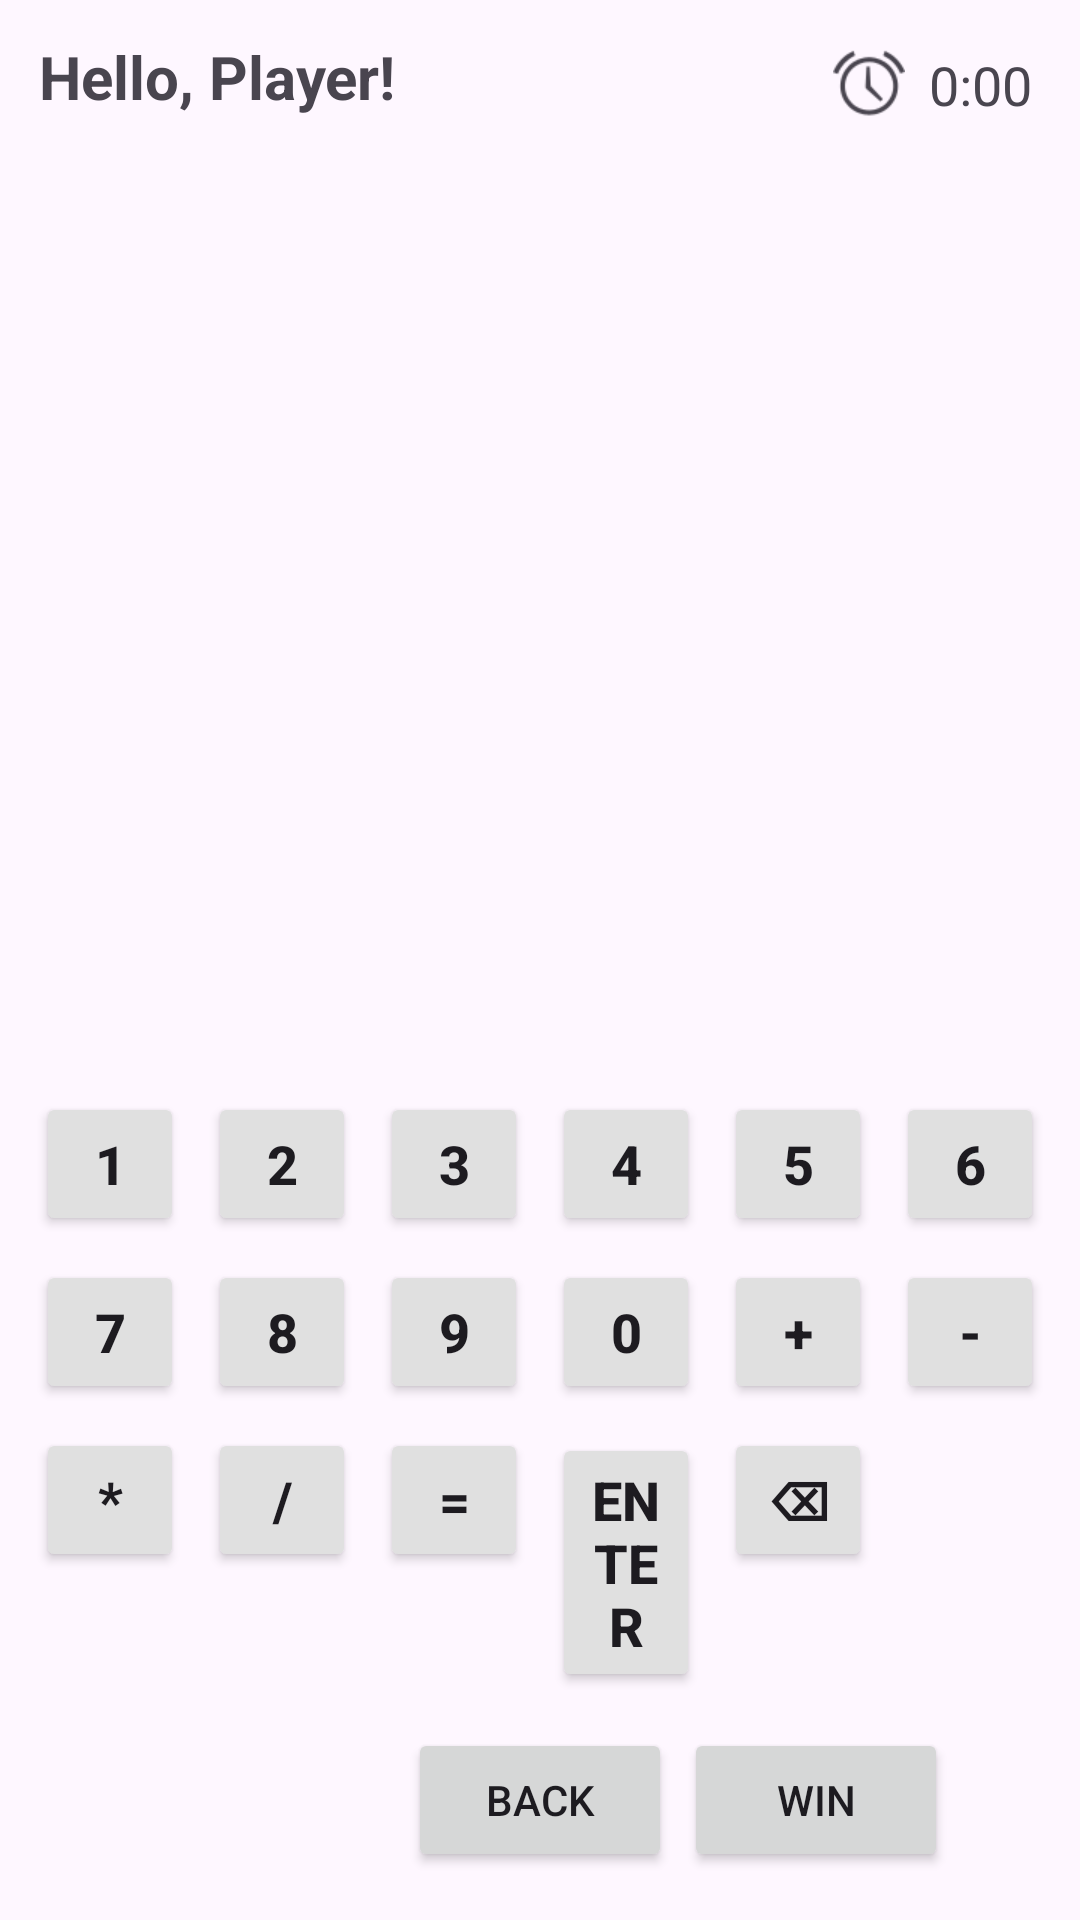

Icon bounding boxes for this 1080 × 1920 phone screenshot, format (x1, y1, x2, y2):
Timer: (833, 51, 905, 116)
